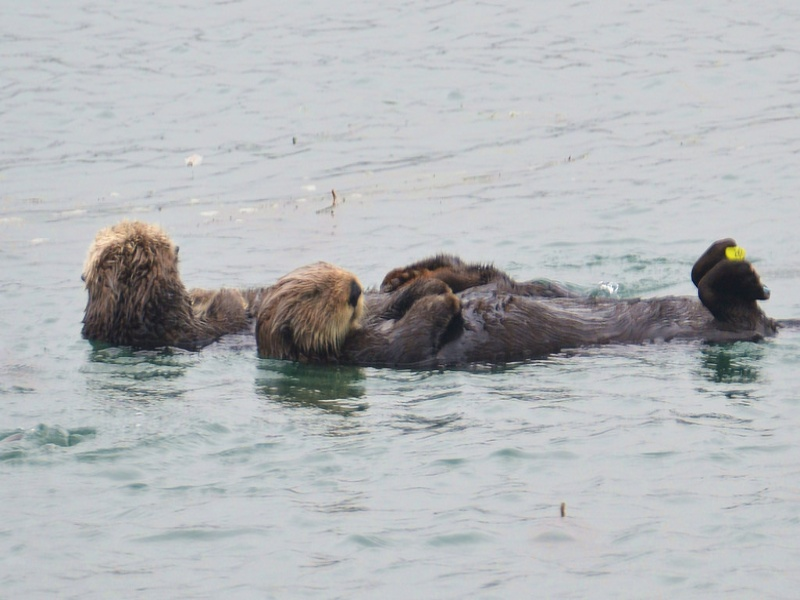minkish: (262, 269, 753, 394), (81, 221, 243, 355)
